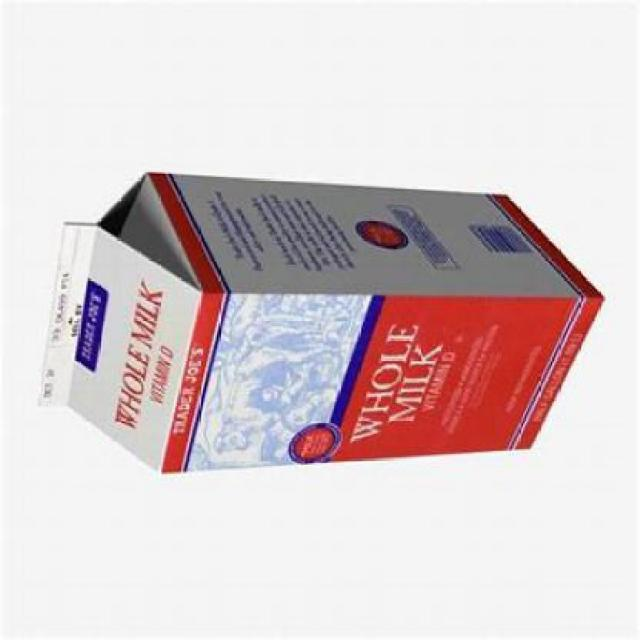non_white_jug: (33, 171, 605, 479)
